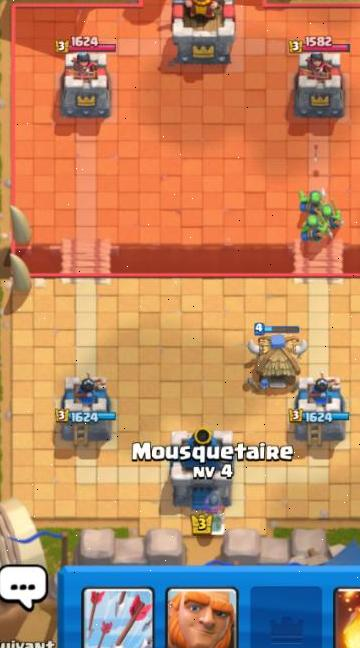player_goblin_hut: (241, 323, 310, 392)
player_spear_goblins: (298, 212, 331, 244), (318, 199, 346, 232), (298, 184, 329, 212)
